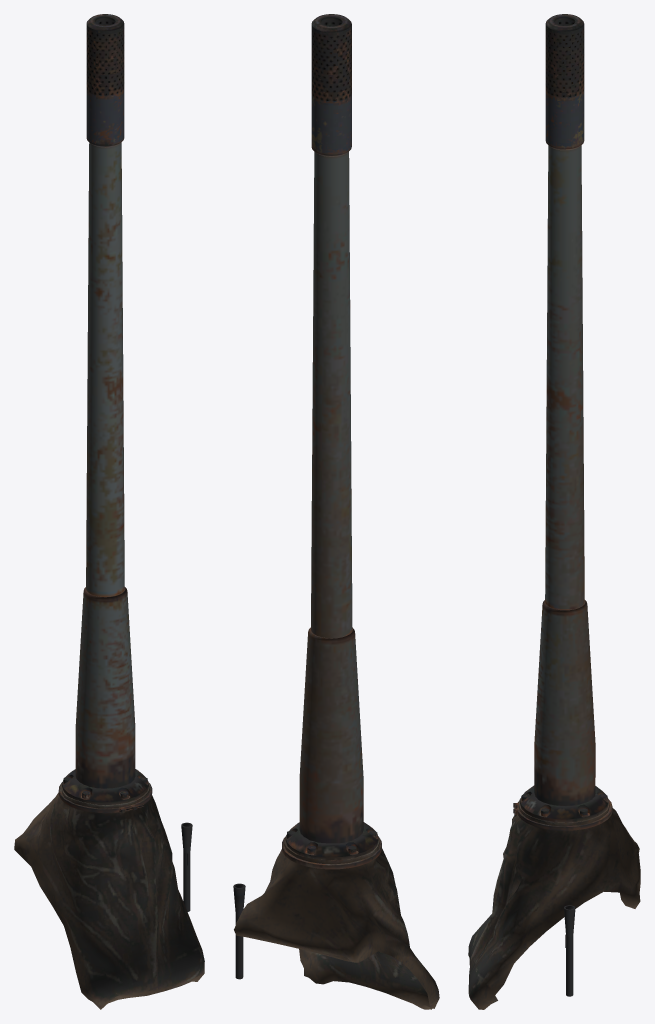
The model's file is Gun_04.glb.
3 renders of one model, left to right at view 1: azimuth 30°, elevation 25°; view 2: azimuth 150°, elevation 25°; view 3: azimuth 270°, elevation 25°, orthographic. The views are drawn at different scales.
Visible parts, largest first — view 1: set_0_group_0; view 2: set_0_group_0; view 3: set_0_group_0.
Part boxes in pixels (box(x1,y1,x2,y2)): set_0_group_0: box(14, 14, 204, 1009); set_0_group_0: box(233, 14, 439, 1009); set_0_group_0: box(468, 14, 640, 1009).
Bounding box in the file's own units: 0.6514 × 3.93 × 0.6362.
1 material, 1 textured.
